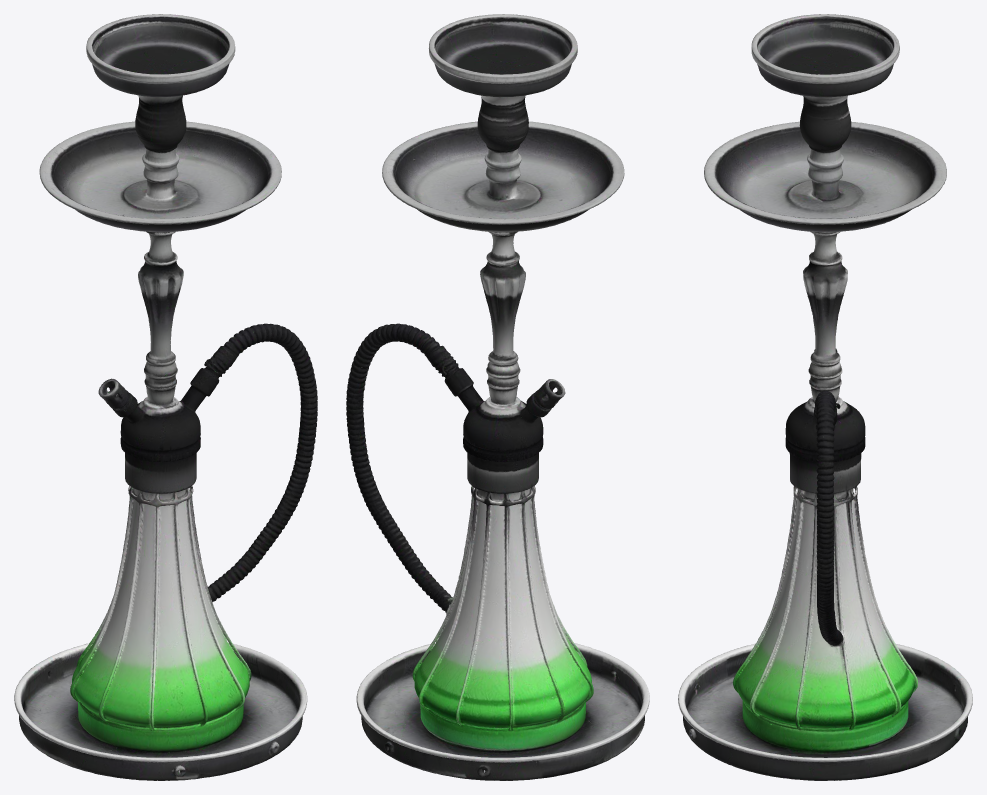
File: hookah_street.glb
3 views of the same model, side by side, from view 1: azimuth 30°, elevation 25°; view 2: azimuth 150°, elevation 25°; view 3: azimuth 270°, elevation 25° (orthographic).
Size of the model in its own units: 0.8287 by 1.9 by 0.7489.
Materials: 1 (1 with a texture image).
